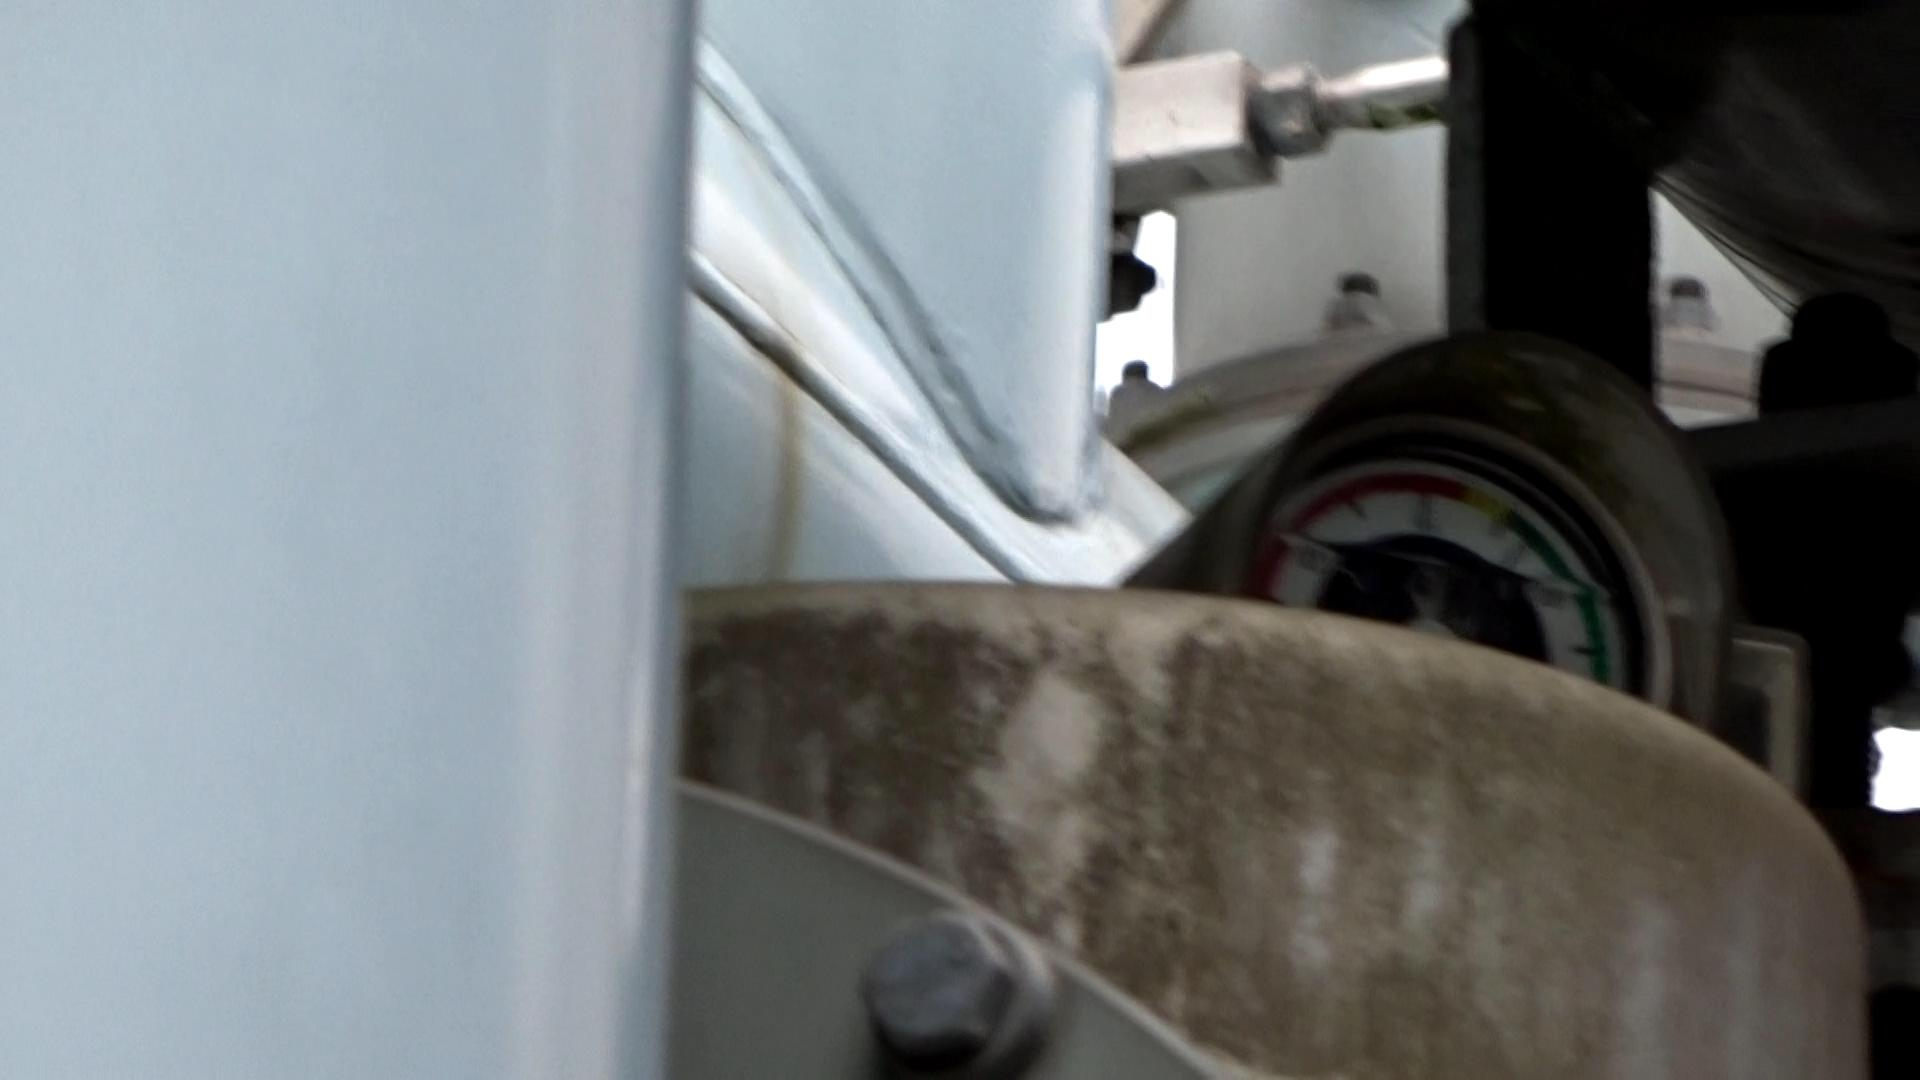instrument: (1255, 439, 1642, 690)
